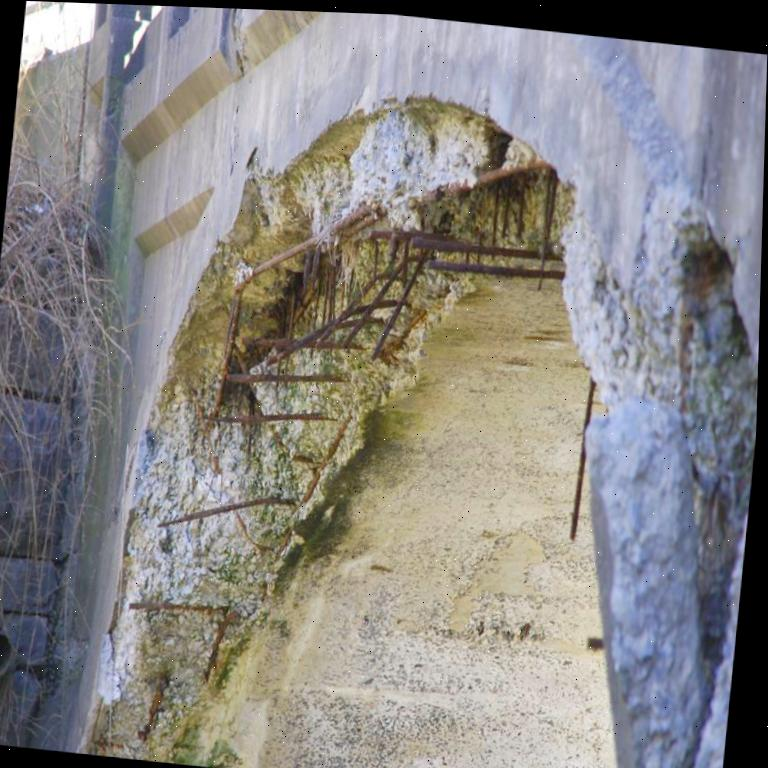spalling: (84, 96, 568, 760), (566, 34, 758, 768)
